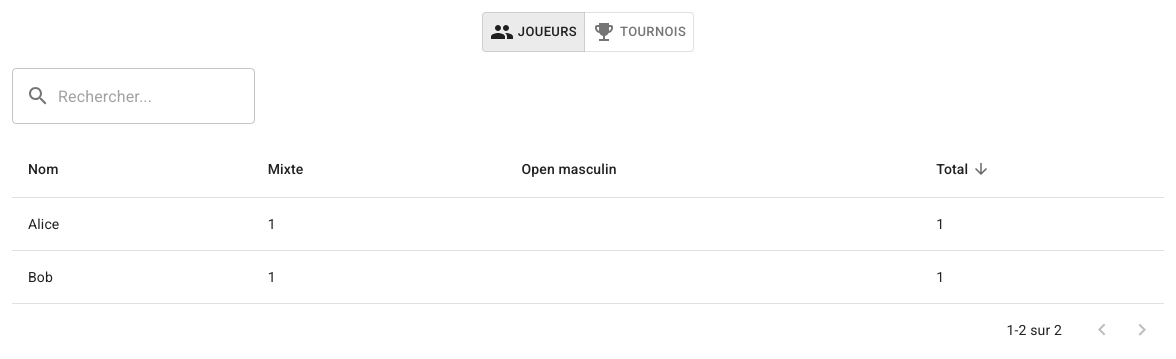
it: TournamentManagement › devrait basculer vers la vue tournois
Expected: the text "Alice" is shown, x1=12 y1=198 x2=252 y2=251
What coordinates should you click on to do the following:
click the button "Tournois"
I would click on:
 (639, 32)
Its box is x1=584 y1=12 x2=694 y2=52.
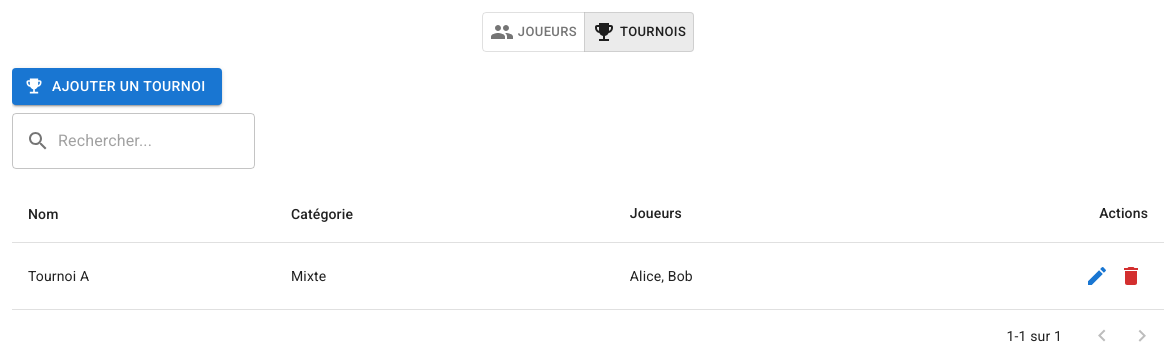
Now the text "Tournoi A" is shown, box x1=12 y1=242 x2=275 y2=309
Now the button "Catégorie" is shown, box x1=291 y1=206 x2=353 y2=222
Now the text "Alice, Bob" is shown, box x1=614 y1=242 x2=882 y2=309
